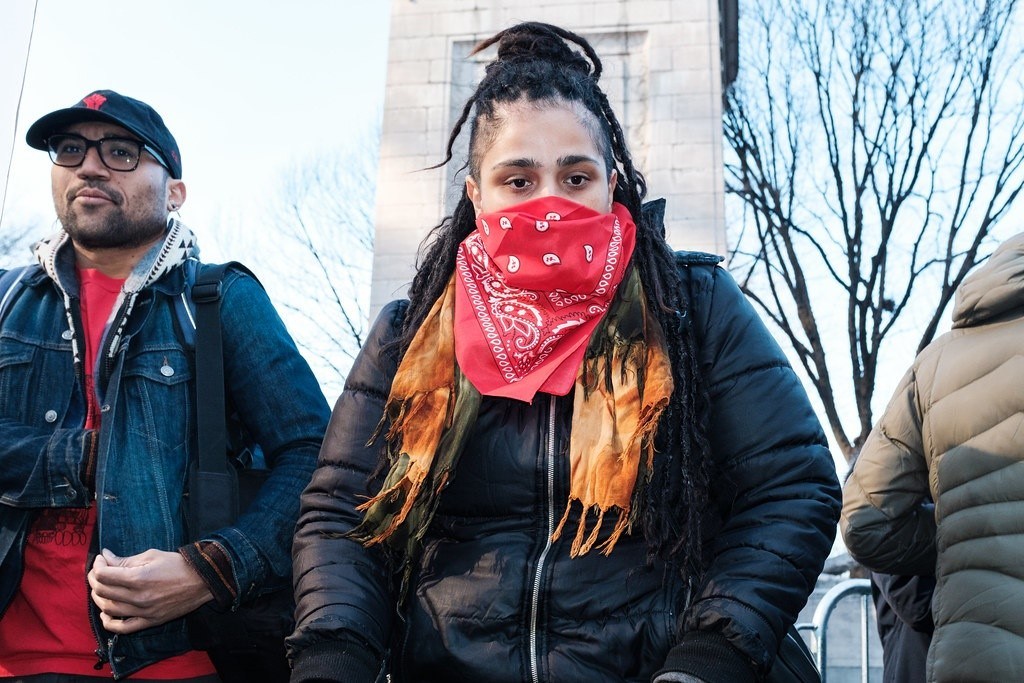face_no_mask: (38, 91, 181, 249)
face_with_mask: (460, 56, 624, 285)
